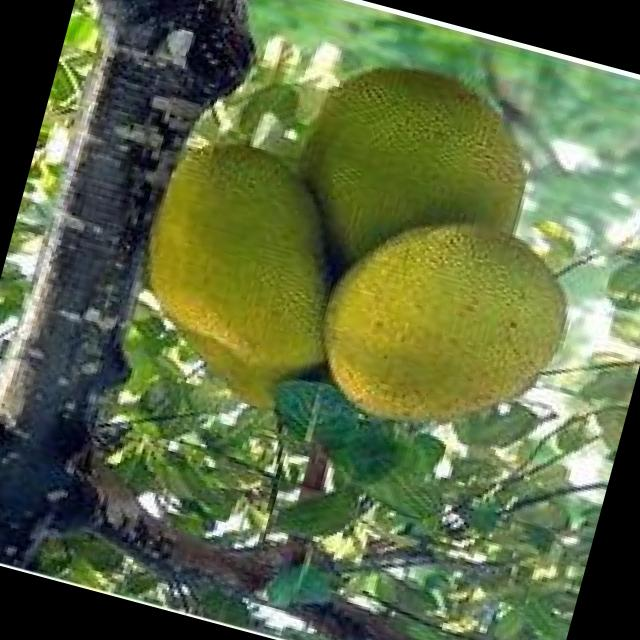Fruit: (86, 100, 394, 447), (277, 168, 609, 481), (257, 24, 578, 316)
